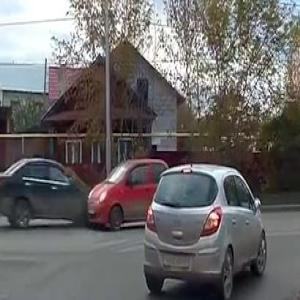significant: (0, 142, 180, 238)
